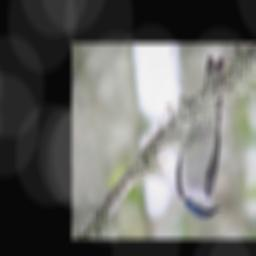Swallow: (174, 54, 228, 221)
